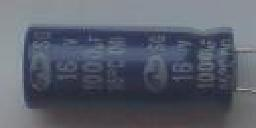Electrolytic-capacitor: (20, 25, 256, 104)
